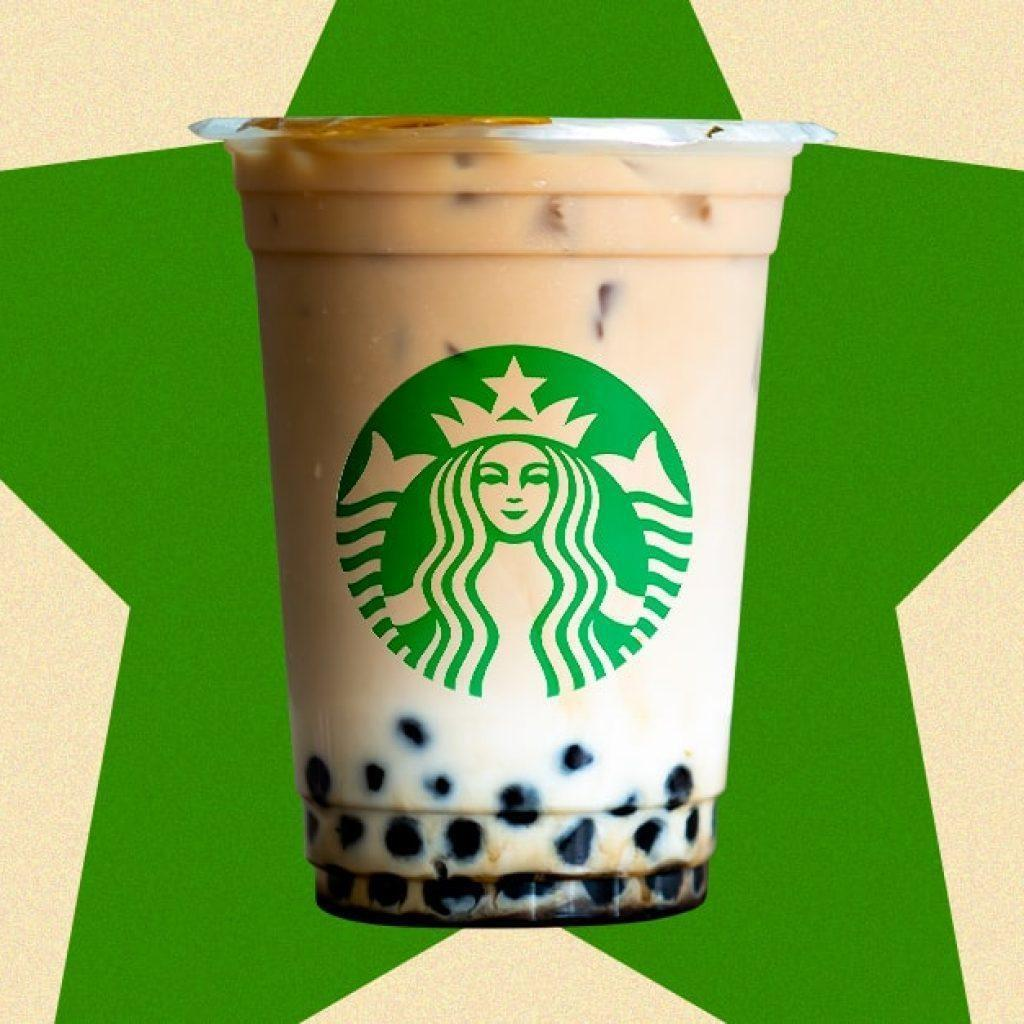cup-disposable: (182, 102, 845, 943)
